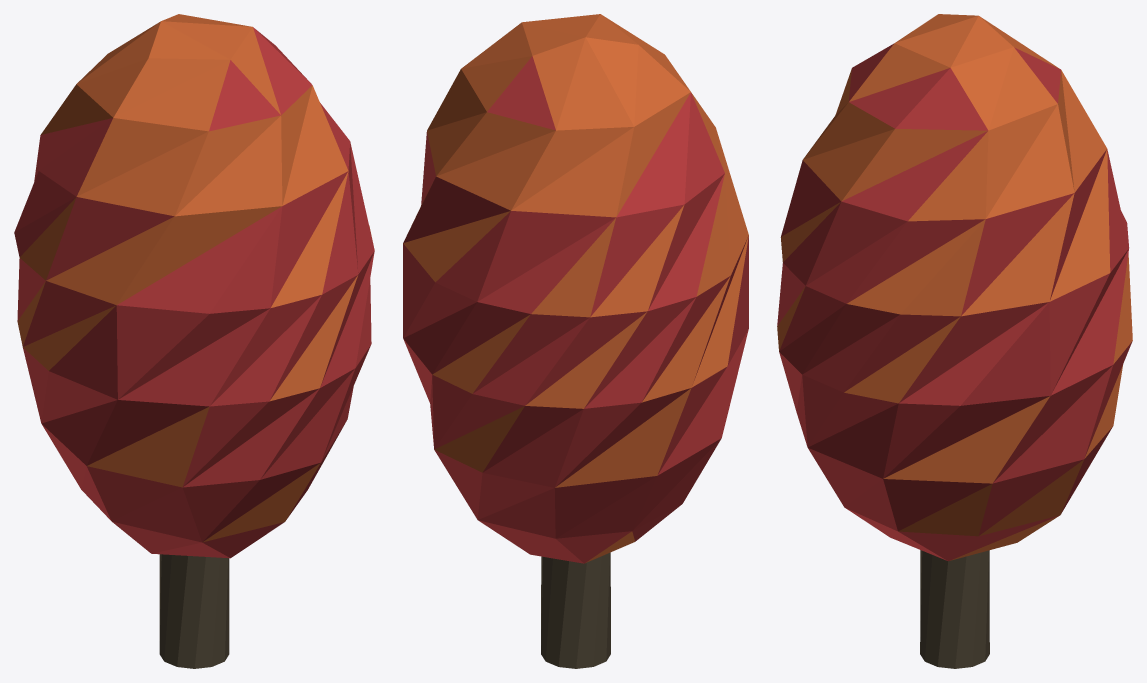
Rendered from twisted_autumn1.dae.
3 renders of one model, left to right at view 1: azimuth 30°, elevation 25°; view 2: azimuth 150°, elevation 25°; view 3: azimuth 270°, elevation 25°, orthographic.
Parts seen in each view (by area): view 1: Kugel, Zylinder; view 2: Kugel, Zylinder; view 3: Kugel, Zylinder.
Boxes of the visible parts, x1=… form: Kugel: x1=14, y1=14, x2=374, y2=558; Zylinder: x1=159, y1=554, x2=229, y2=668; Kugel: x1=403, y1=14, x2=748, y2=563; Zylinder: x1=541, y1=552, x2=610, y2=668; Kugel: x1=777, y1=14, x2=1132, y2=561; Zylinder: x1=920, y1=550, x2=989, y2=668.
Bounding box in the file's own units: 4.54 × 9.01 × 4.63.
